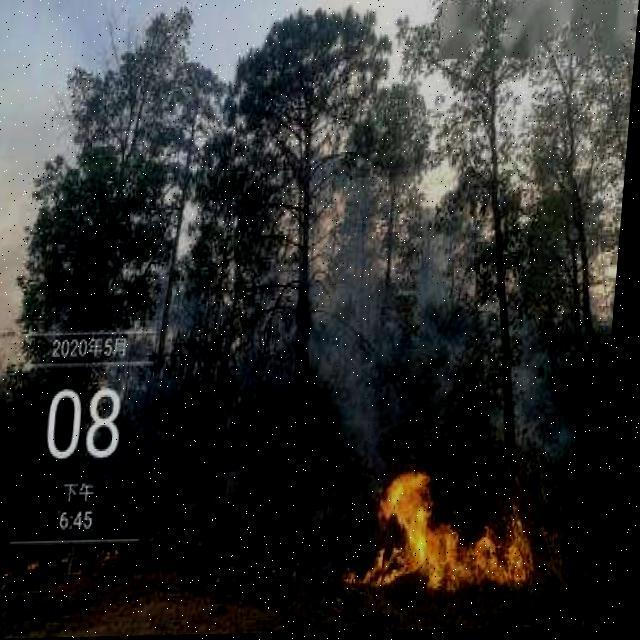Fire: (350, 466, 554, 596)
